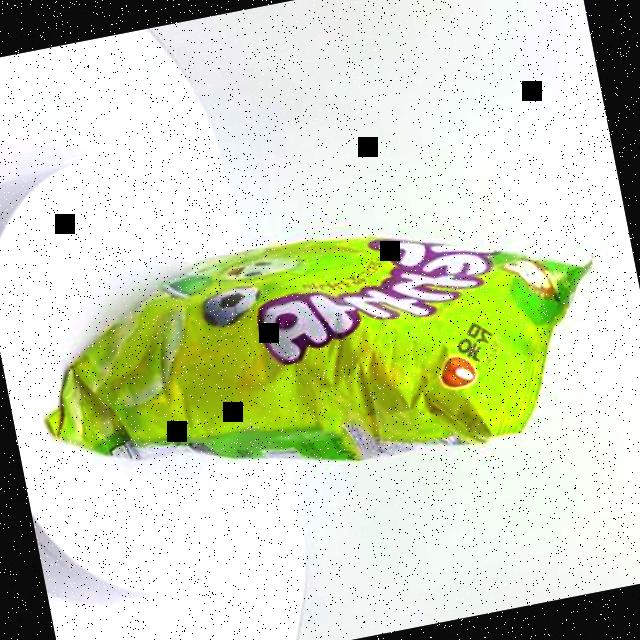snack_bag: (8, 160, 636, 536)
